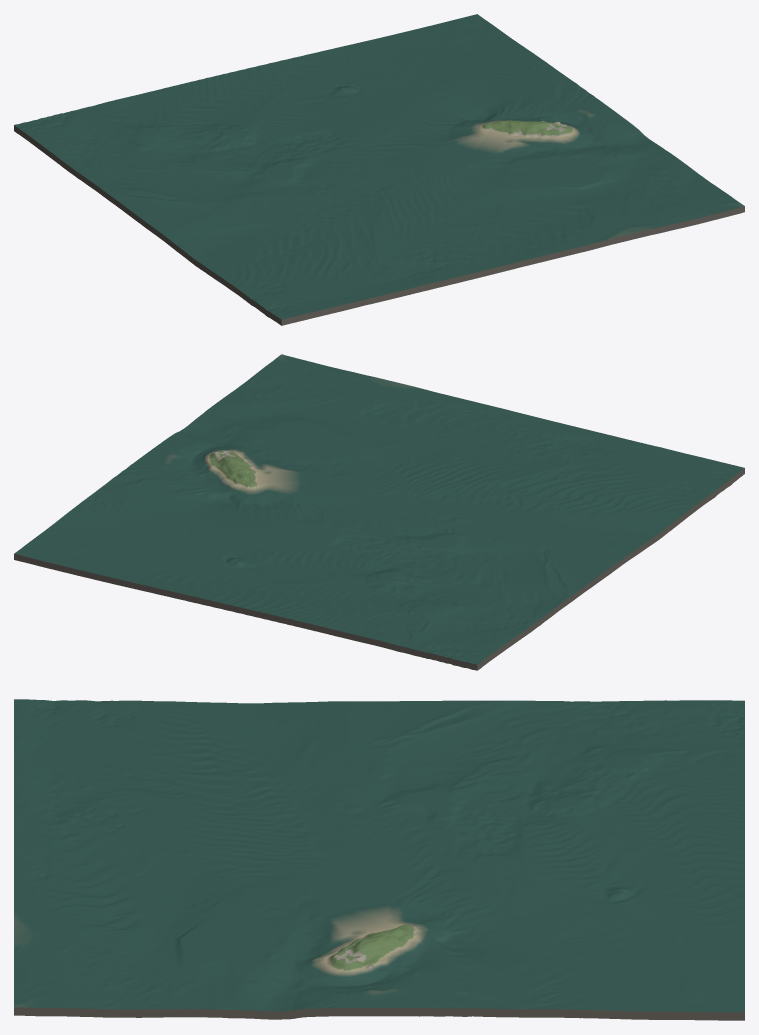
Rendered from terrain_2_1.glb.
The picture shows the model from 3 angles, top to bottom: view 1: azimuth 30°, elevation 25°; view 2: azimuth 150°, elevation 25°; view 3: azimuth 270°, elevation 25°; orthographic projection. The views are drawn at different scales.
Parts seen in each view (by area): view 1: terrain_2_1; view 2: terrain_2_1; view 3: terrain_2_1.
Boxes of the visible parts, <box> form: terrain_2_1: <box>14,14,744,325</box>; terrain_2_1: <box>14,354,744,670</box>; terrain_2_1: <box>14,699,744,1020</box>.
Size of the model in its own units: 3200 by 122 by 3200.
